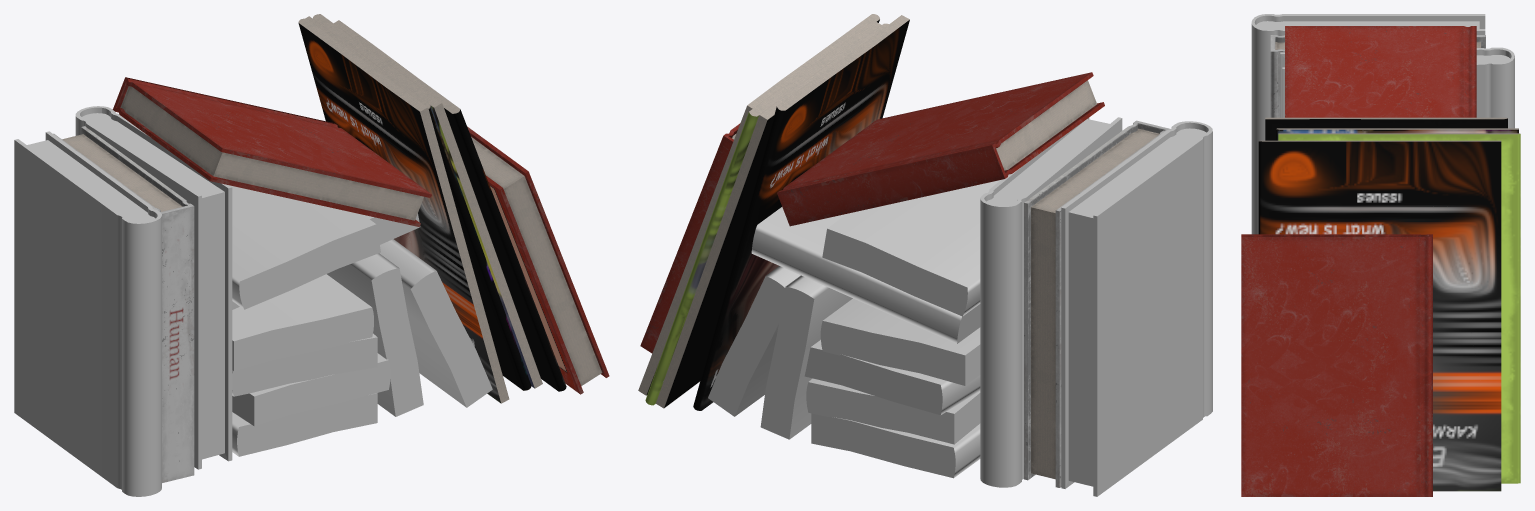
Rendered from SM_Book_Stack_03.FBX.
3 renders of one model, left to right at view 1: azimuth 30°, elevation 25°; view 2: azimuth 150°, elevation 25°; view 3: azimuth 270°, elevation 25°, orthographic. The views are drawn at different scales.
Visible parts, largest first — view 1: SM_Book_Stack_03_LOD0; view 2: SM_Book_Stack_03_LOD0; view 3: SM_Book_Stack_03_LOD0.
Boxes of the visible parts, <box> form: SM_Book_Stack_03_LOD0: <box>14,14,609,496</box>; SM_Book_Stack_03_LOD0: <box>638,14,1212,496</box>; SM_Book_Stack_03_LOD0: <box>1241,14,1520,496</box>.
Size of what is drawn, in the model's own units: 57.58 by 30.02 by 36.71.
